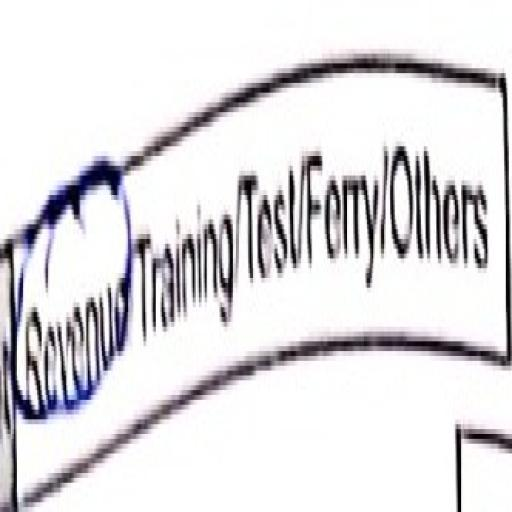check: (2, 134, 133, 506)
